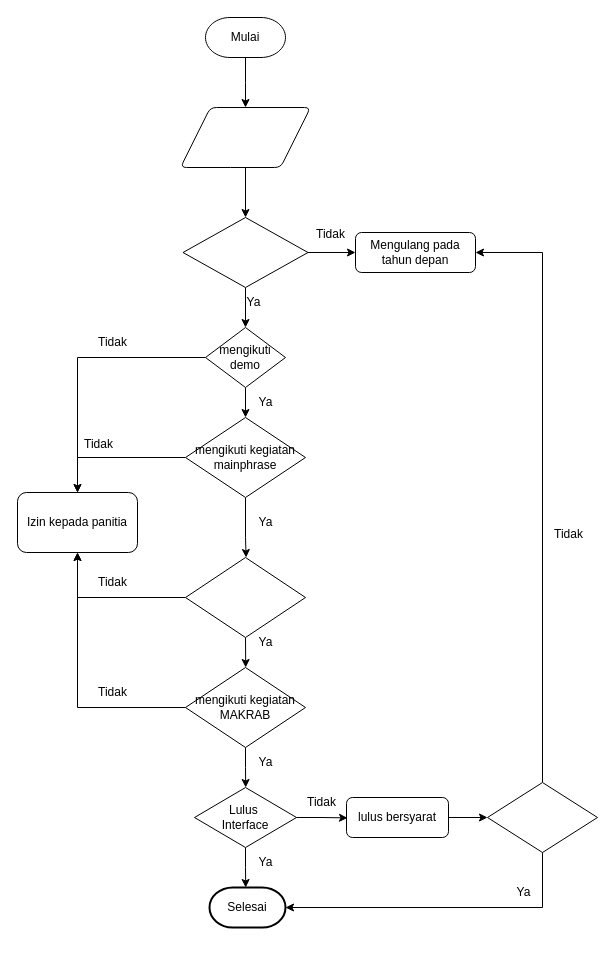
Image size: 615x953. Some labels were removed from this diagram. Here are the shapes that lost their labels. From the top down, the centre of each, then its label:
[245,137]: Mahasiswa baru ilkom UNNES
[245,252]: Mengikuti kegiatan Interface
[245,597]: mengikuti kegiatan PKMMPD
[542,817]: Mengerjakan tugas
